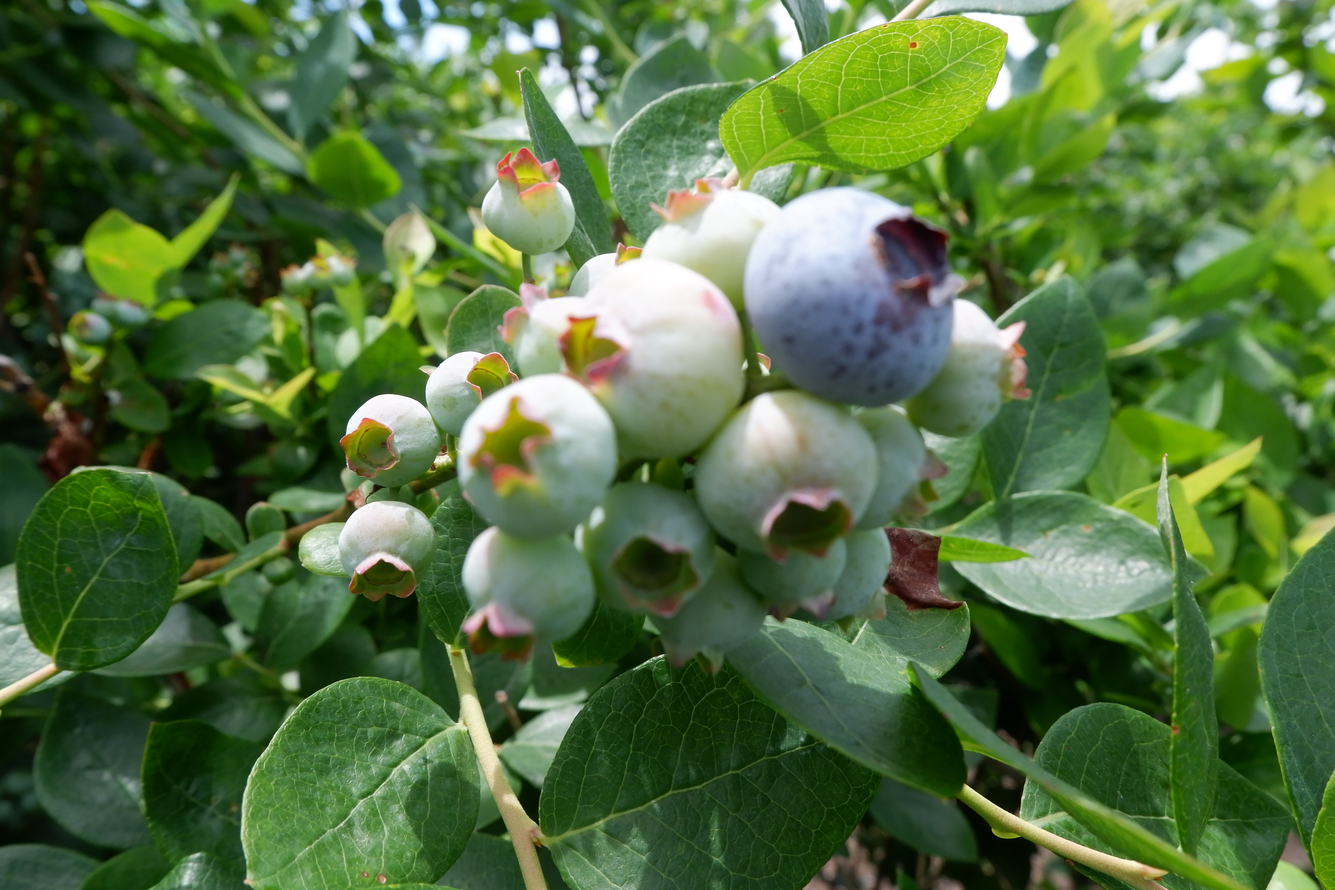Immature: (562, 257, 742, 455), (699, 390, 873, 559), (460, 375, 614, 539), (575, 481, 714, 611), (462, 530, 592, 662), (645, 187, 782, 305), (908, 300, 1027, 434), (659, 556, 764, 670), (855, 406, 940, 531), (495, 282, 595, 377), (484, 151, 573, 253), (342, 504, 431, 604), (735, 540, 847, 619), (344, 397, 441, 484), (427, 354, 510, 434), (825, 531, 888, 623), (570, 250, 640, 297)
Mature: (742, 194, 956, 402)
